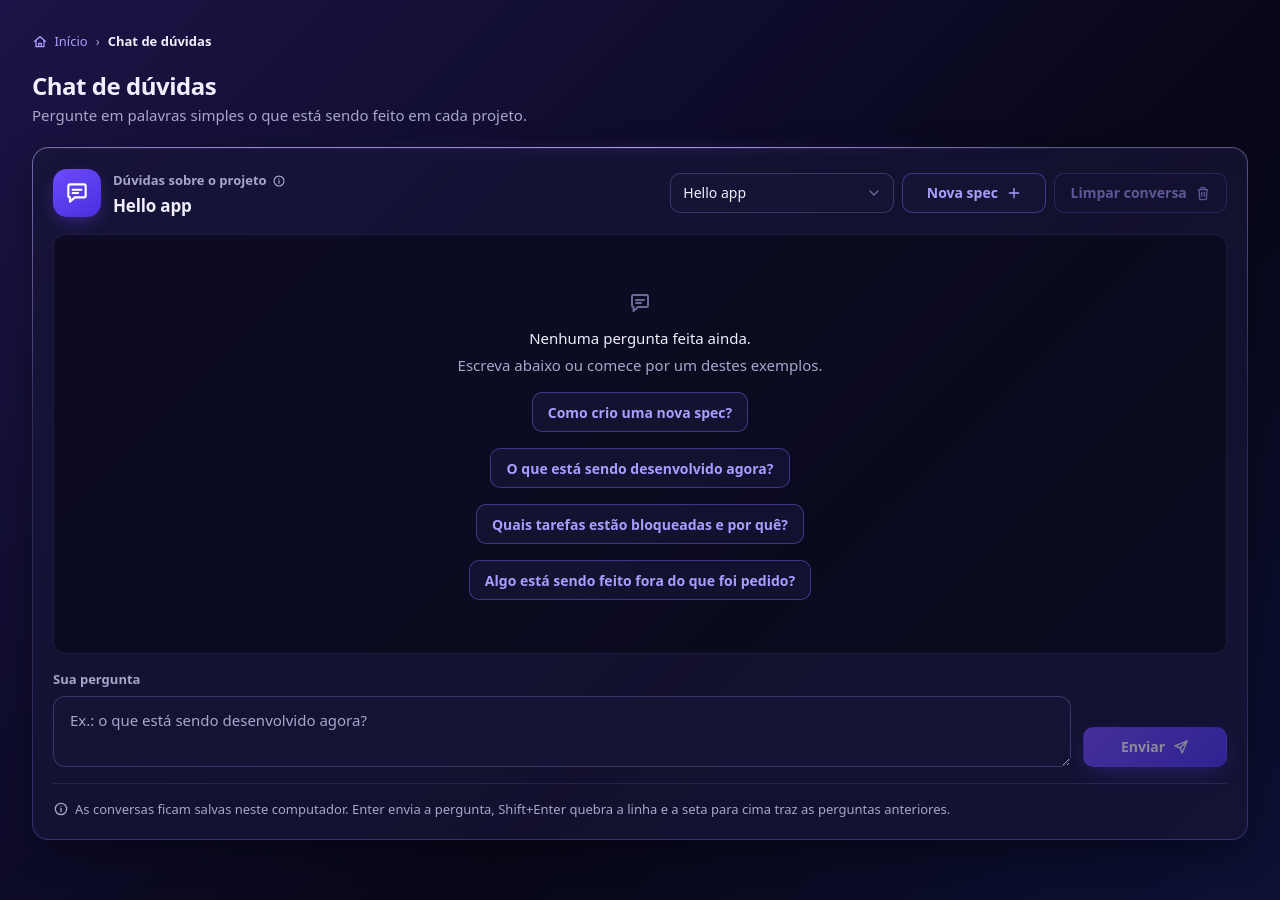
Test: ChatPage › asks a question, shows the answer and keeps the question until it is answered
The width and height of the screenshot is (1280, 900).
Expected: the text "Nenhuma pergunta feita ainda." is shown, [529,327,751,350]
Type "O que está sendo feito?" into the text box with test id "chat-input" at (562, 731), box [53,696,1071,767]
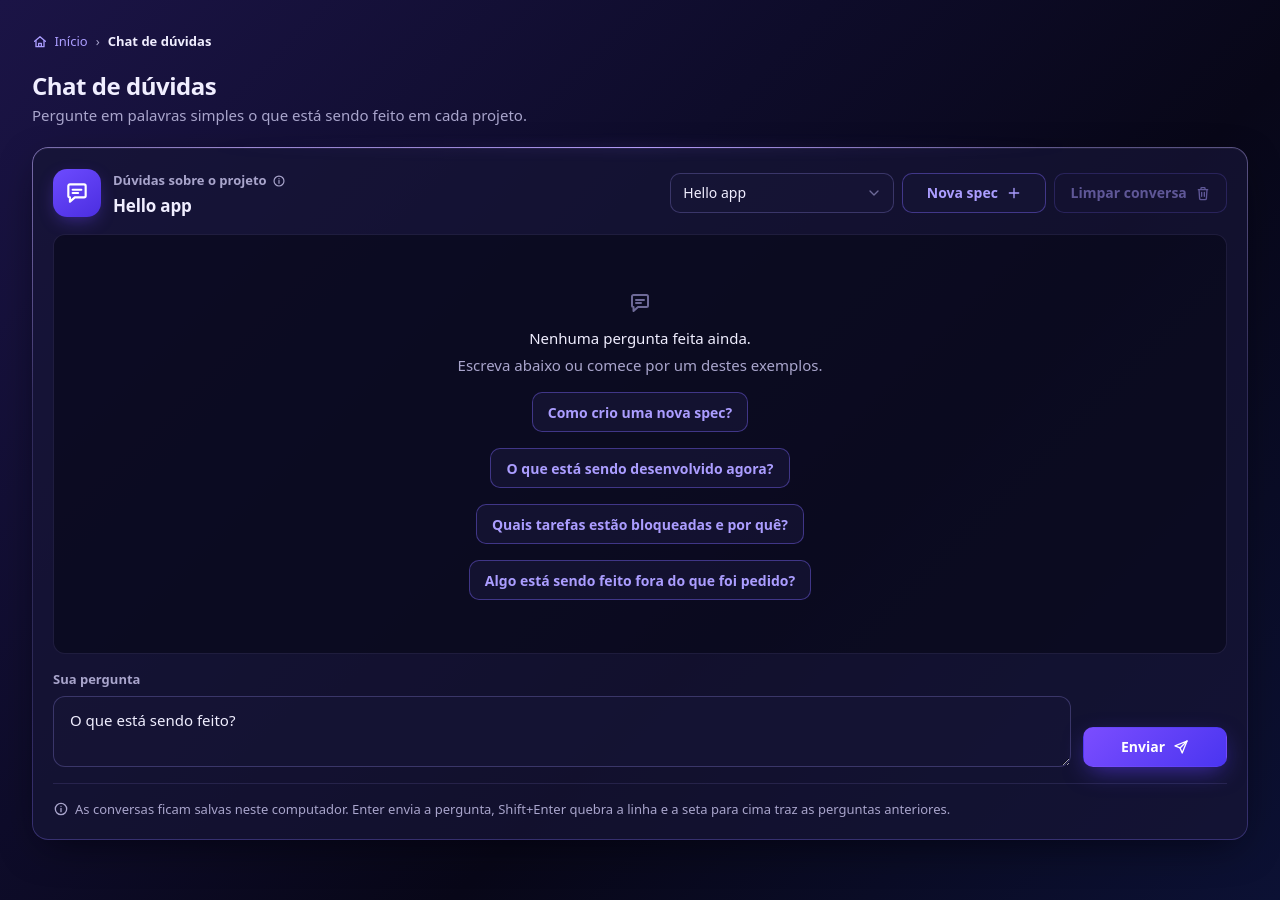
Click the button "Enviar" at (1155, 747), box [1083,727,1227,767]
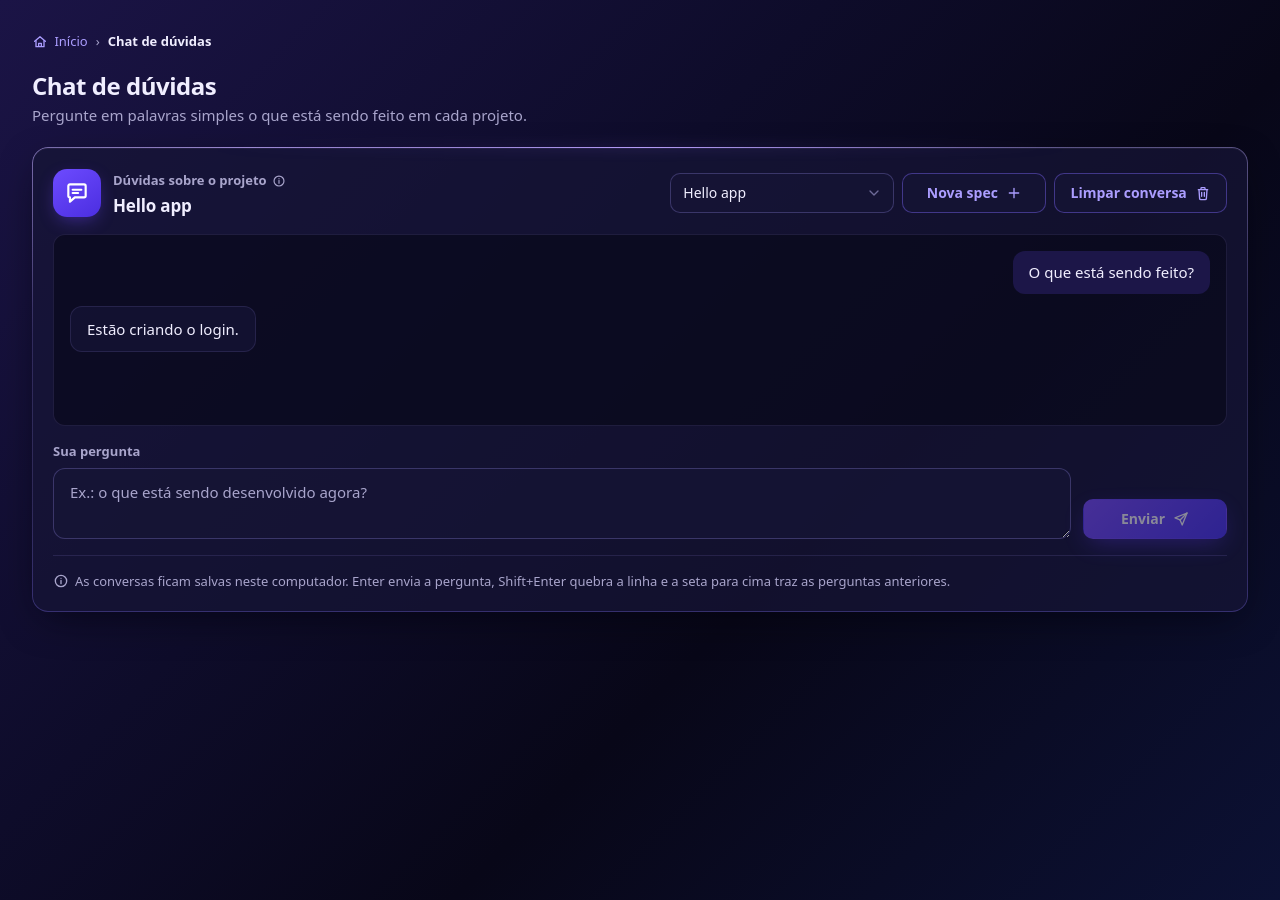
Expected: the text "Estão criando o login." is shown, [87,317,239,341]
Expected: the text "O que está sendo feito?" is shown, [1012,251,1210,294]
Expected: the text box with test id "chat-input" is empty, [53,468,1071,539]
